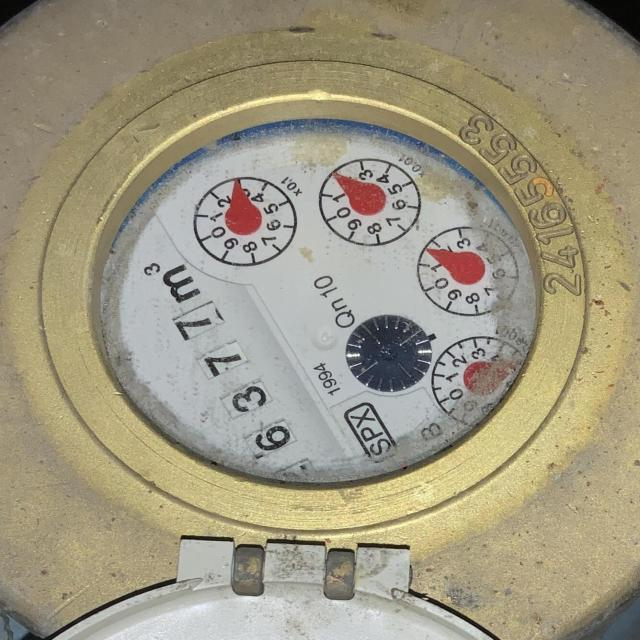gaz_meter: (87, 94, 542, 486)
indication: (159, 291, 309, 473)
